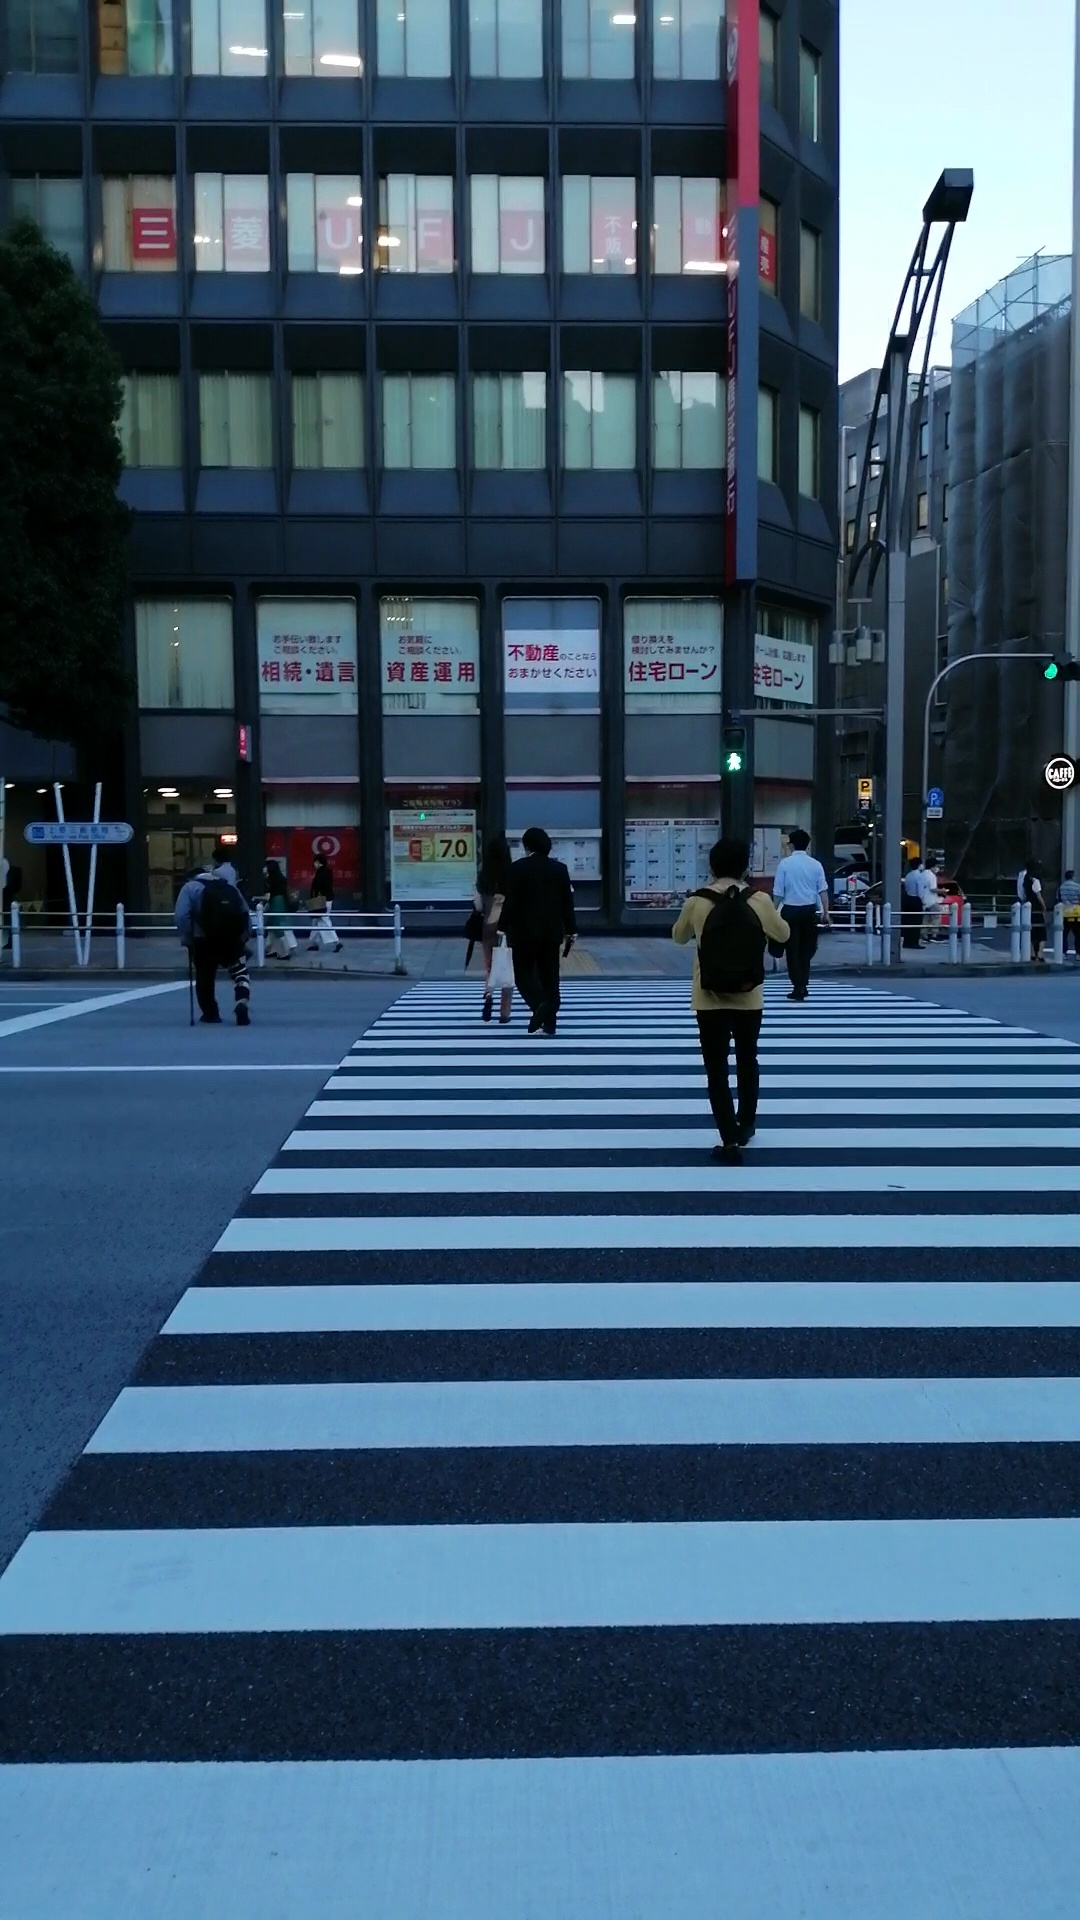green: (721, 724, 748, 775)
